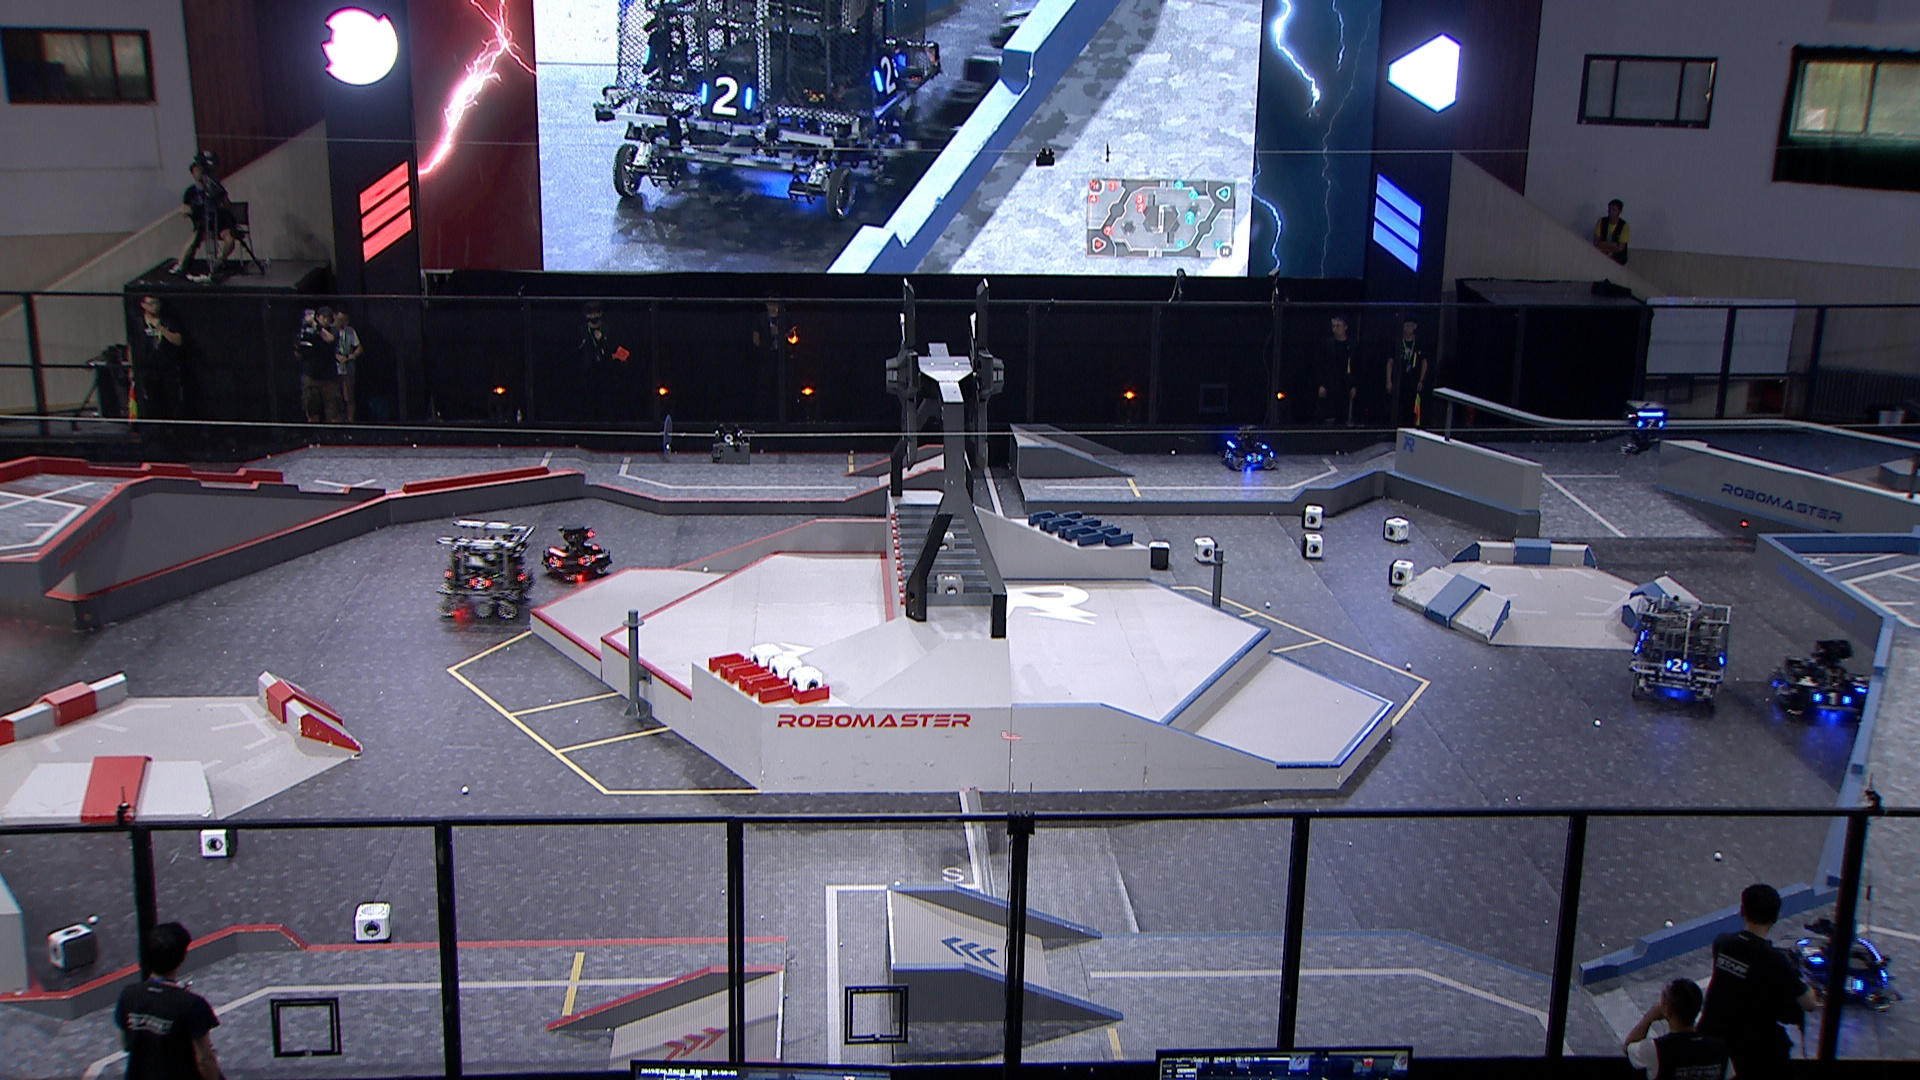armor: (1797, 938, 1825, 967), (1813, 690, 1851, 708), (1634, 415, 1665, 436), (1841, 975, 1866, 996), (1664, 657, 1691, 676), (1766, 678, 1785, 700), (465, 574, 491, 591), (574, 551, 596, 570), (1855, 673, 1871, 698), (547, 553, 566, 572), (516, 562, 531, 584), (1244, 451, 1265, 465), (1220, 444, 1234, 462)
car: (1785, 910, 1903, 1015), (1629, 591, 1735, 703), (430, 516, 538, 622), (1760, 637, 1876, 719), (535, 520, 615, 588), (1215, 419, 1280, 473)
watcher: (1621, 401, 1669, 458)
